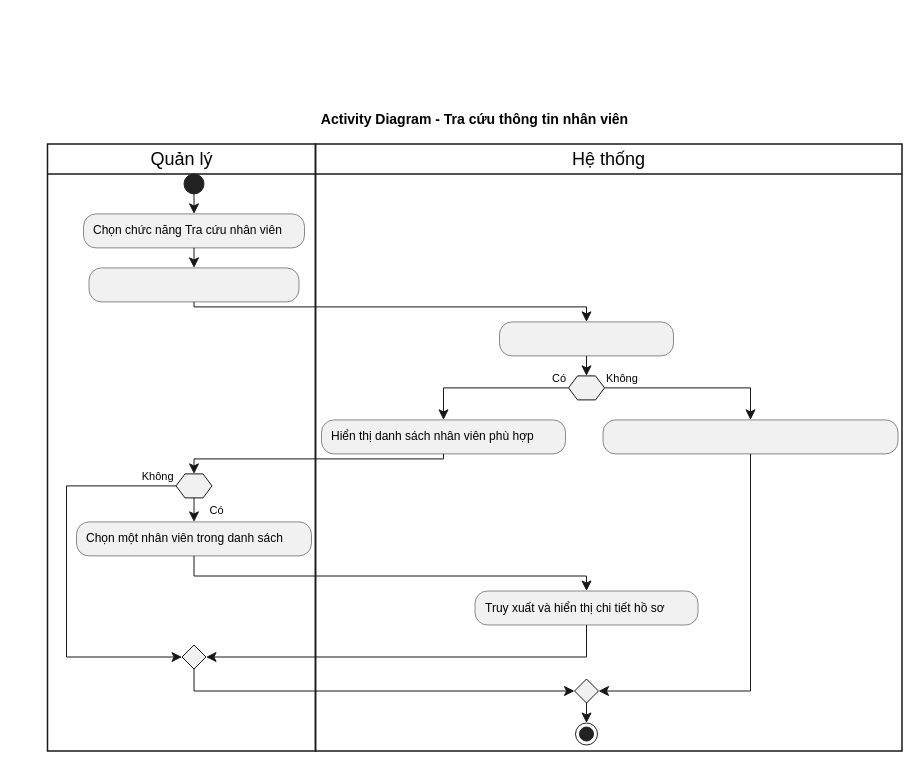
The diagram is 920 pixels wide and 769 high, and some of its shapes have lost their labels. Each missing label, with the centre of its shape:
Hiển thị thông báo "Không tìm thấy nhân viên": the point at 750,436
Nhập từ khóa / tiêu chí tìm kiếm: the point at 193,284
Truy vấn dữ liệu nhân viên: the point at 586,338
